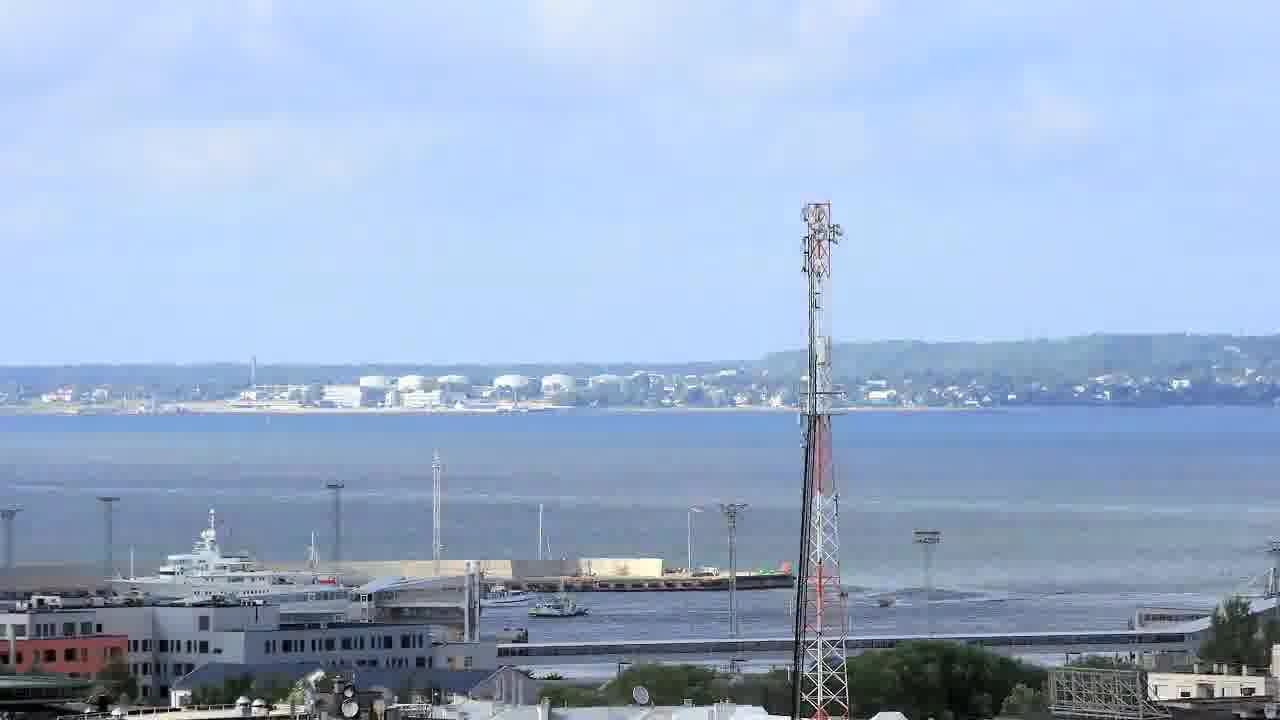type-0: (515, 589, 603, 626)
type-3: (89, 518, 402, 620)
type-4: (873, 589, 903, 622), (820, 582, 854, 609)
